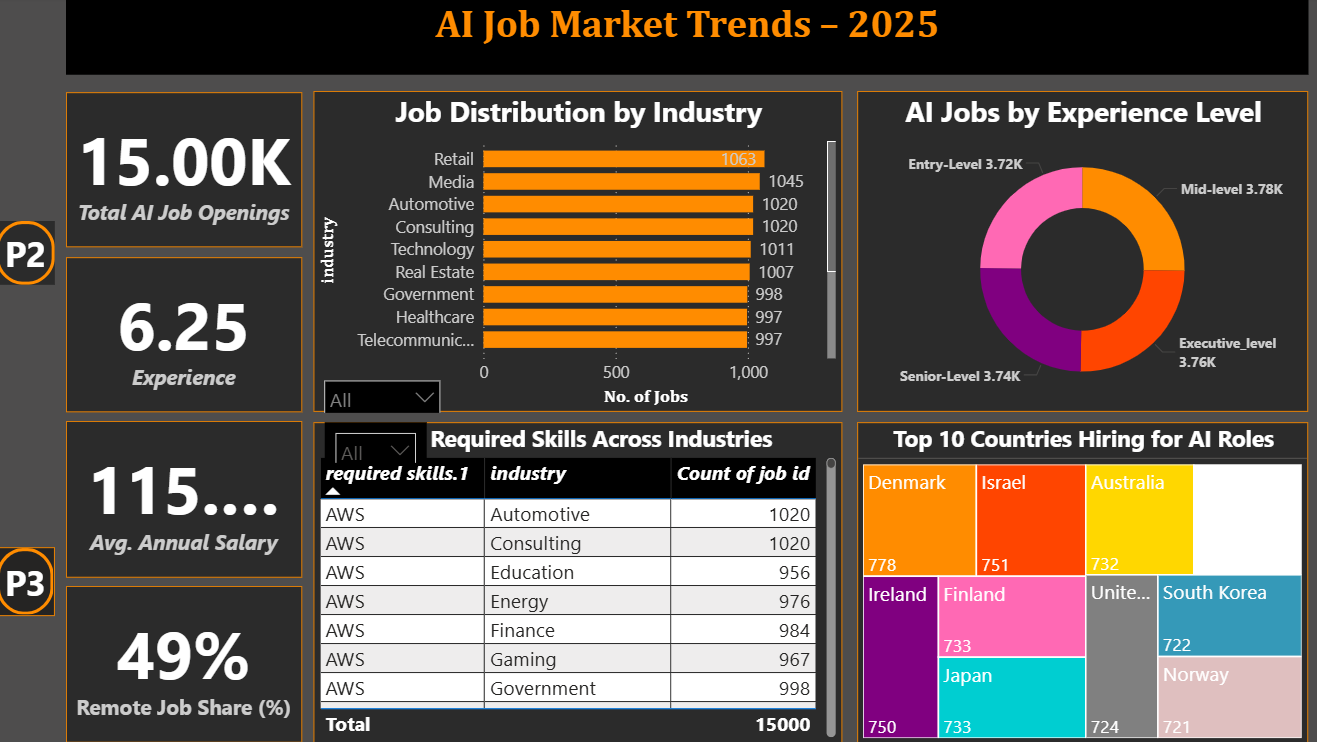

The page's visual inventory and layout, read from the dashboard file:
{"tool":"powerbi","page":{"name":"AI Job market overview","canvas":[1280,720],"ordinal":0},"visuals":[{"type":"card","fields":{"Values":["CountNonNull(AI jobs.job id)"]},"box":[67.6,92.9,228,149.6],"z":0},{"type":"card","fields":{"Values":["Avg(AI jobs.salary (usd))"]},"box":[67.6,410.2,228,150.8],"z":1000},{"type":"card","fields":{"Values":["Avg(AI jobs.remote ratio %)"]},"box":[67.6,569.4,228,150.8],"z":2000},{"type":"clusteredBarChart","title":"Job Distribution by Industry","fields":{"Category":["AI jobs.industry"],"Y":["CountNonNull(AI jobs.job id)"]},"box":[307,92.3,510.3,309.9],"z":3000},{"type":"donutChart","title":"AI Jobs by Experience Level","fields":{"Category":["AI jobs.experience level"],"Y":["CountNonNull(AI jobs.job id)"]},"box":[831.7,92.3,435.3,309.9],"z":4000},{"type":"slicer","fields":{"Values":["AI jobs.industry"]},"box":[307,360.4,132.6,41.8],"z":5000},{"type":"textbox","box":[67.6,0,1199.2,76],"z":6000},{"type":"treemap","title":"Top 10 Countries Hiring for AI Roles","fields":{"Group":["AI jobs.company location"],"Values":["CountNonNull(AI jobs.job id)"]},"box":[831.7,410.8,435.3,309.9],"z":7000},{"type":"card","fields":{"Values":["Avg(AI jobs.years experience)"]},"box":[67.6,252.1,228,149.6],"z":8000},{"type":"tableEx","title":"Top Required Skills Across Industries","fields":{"Values":["job_skills.required skills.1","AI jobs.industry","AI jobs.job id"]},"box":[307,410.8,510.3,309.9],"z":8001},{"type":"slicer","fields":{"Values":["job_skills.required skills.1"]},"box":[317.1,410.8,98,38.9],"z":8002},{"type":"actionButton","title":"P1","box":[0,217.2,56.7,61.5],"z":8003},{"type":"actionButton","box":[0,532,56.7,66.4],"z":8004}]}

Visuals, with their boxes in screenshot pixels (x1, y1, x2, y2), scaled from the page's 1280x720 canvas onto the 1317x742 screenshot:
card - CountNonNull(AI jobs.job id): {"left": 70, "top": 96, "right": 304, "bottom": 250}
card - Avg(AI jobs.salary (usd)): {"left": 70, "top": 423, "right": 304, "bottom": 578}
card - Avg(AI jobs.remote ratio %): {"left": 70, "top": 587, "right": 304, "bottom": 741}
"Job Distribution by Industry" clusteredBarChart: {"left": 316, "top": 95, "right": 841, "bottom": 414}
"AI Jobs by Experience Level" donutChart: {"left": 856, "top": 95, "right": 1304, "bottom": 414}
slicer - AI jobs.industry: {"left": 316, "top": 371, "right": 452, "bottom": 414}
textbox: {"left": 70, "top": 0, "right": 1303, "bottom": 78}
"Top 10 Countries Hiring for AI Roles" treemap: {"left": 856, "top": 423, "right": 1304, "bottom": 741}
card - Avg(AI jobs.years experience): {"left": 70, "top": 260, "right": 304, "bottom": 414}
"Top Required Skills Across Industries" tableEx: {"left": 316, "top": 423, "right": 841, "bottom": 741}
slicer - job_skills.required skills.1: {"left": 326, "top": 423, "right": 427, "bottom": 463}
"P1" actionButton: {"left": 0, "top": 224, "right": 58, "bottom": 287}
actionButton: {"left": 0, "top": 548, "right": 58, "bottom": 617}
